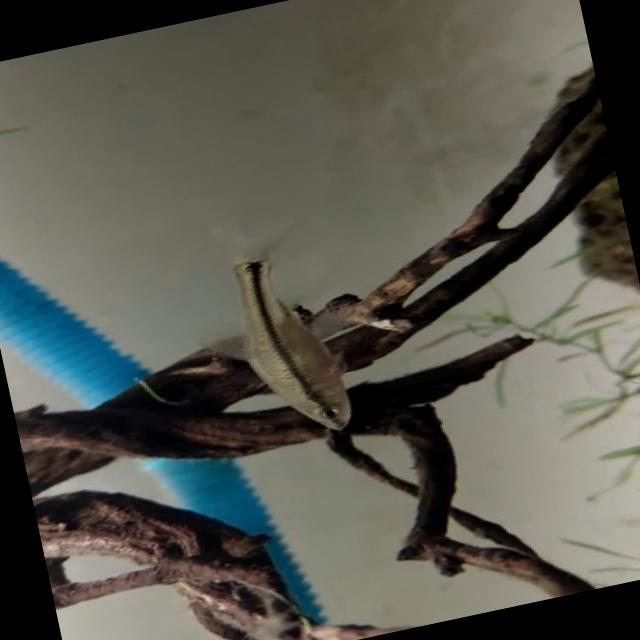Cakil Baligi: (219, 242, 362, 448)
